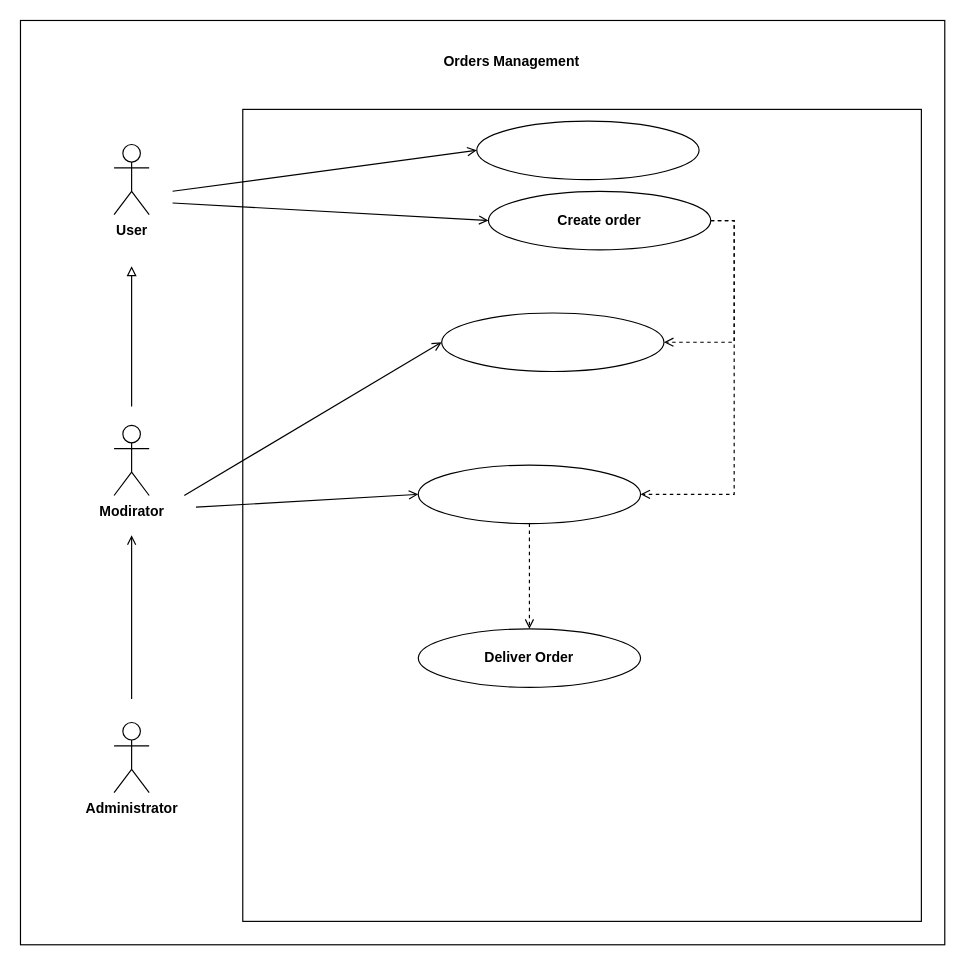
This 965x965 diagram has some shape labels left out. Here are the shapes that lost their labels. From the top down, the centre of each, then its label:
At point 587,150: "consult my orders".
At point 552,341: "Cancel Order".
At point 529,494: "Validate Order".
